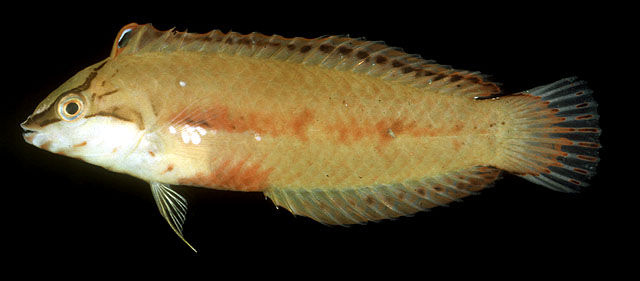fish: (20, 23, 603, 253)
